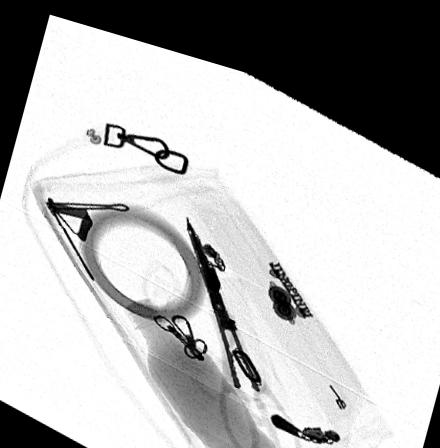Scissors: (186, 205, 303, 448)
